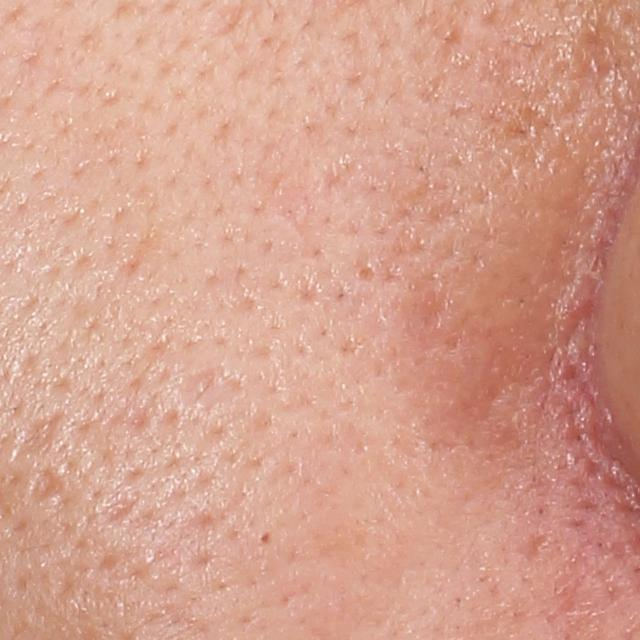atrophic_scar: (11, 406, 73, 463), (564, 18, 619, 80), (178, 366, 244, 414), (26, 463, 67, 509), (510, 529, 554, 566)
comedo: (353, 259, 379, 285), (255, 527, 277, 551)
